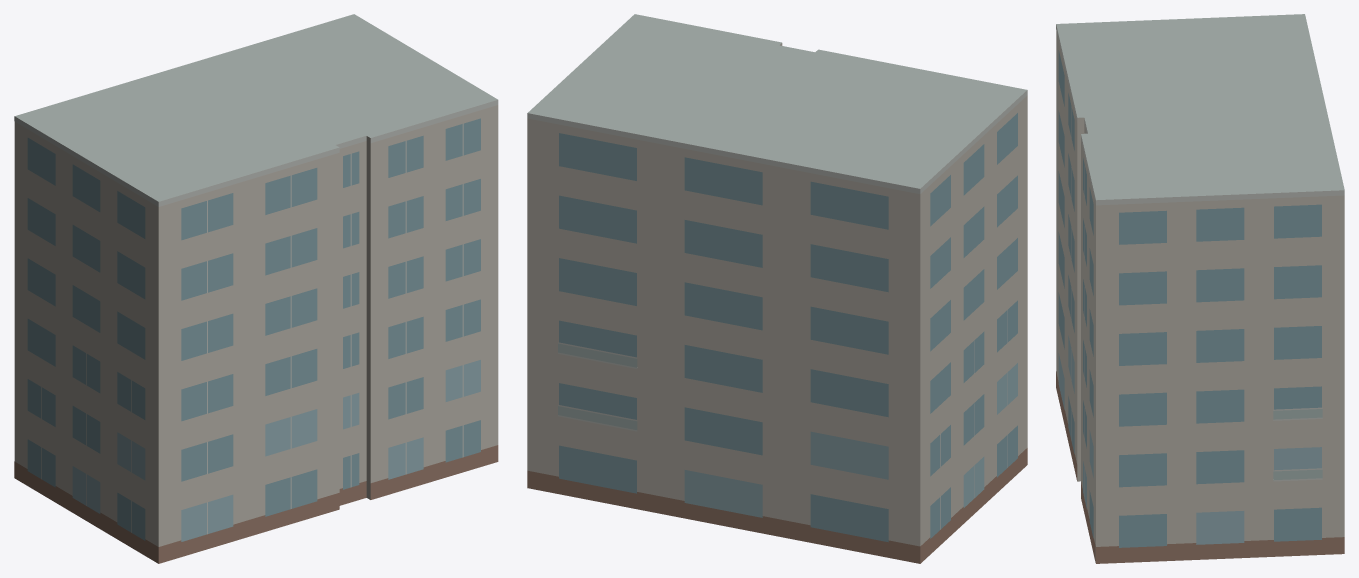
The model's file is survey-upis-32999017.glb.
3 renders of one model, left to right at view 1: azimuth 30°, elevation 25°; view 2: azimuth 150°, elevation 25°; view 3: azimuth 270°, elevation 25°, orthographic. The views are drawn at different scales.
Parts seen in each view (by area): view 1: survey-upis-32999017.tmp; view 2: survey-upis-32999017.tmp; view 3: survey-upis-32999017.tmp.
Part boxes in pixels (left/top/right/bottom): survey-upis-32999017.tmp: left=14, top=14, right=498, bottom=563; survey-upis-32999017.tmp: left=527, top=14, right=1027, bottom=563; survey-upis-32999017.tmp: left=1056, top=14, right=1344, bottom=563.
Bounding box in the file's own units: 18.78 × 17.1 × 12.31.
